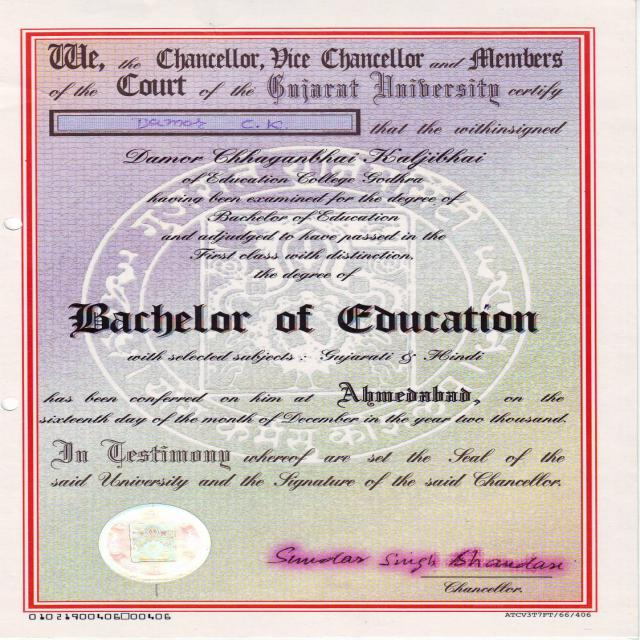degree: (64, 295, 560, 344)
signature: (270, 539, 581, 597)
stamp: (97, 504, 211, 588)
